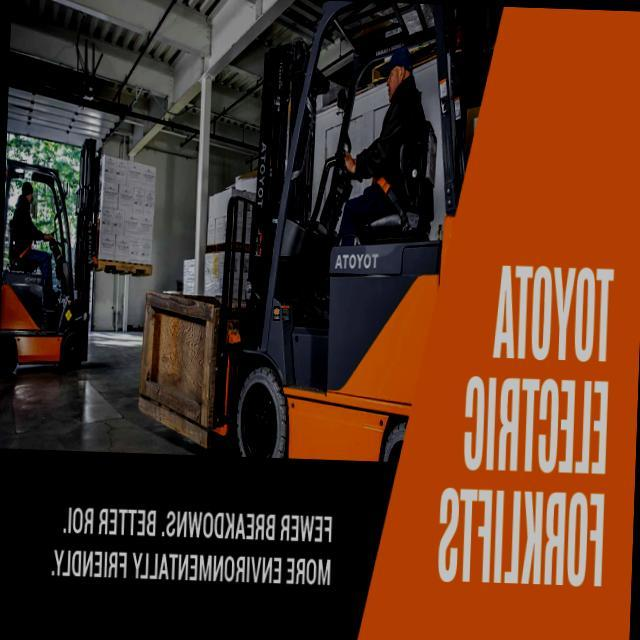driver: (338, 41, 428, 245), (10, 180, 58, 286)
forklift: (202, 23, 438, 456), (0, 132, 124, 388)
